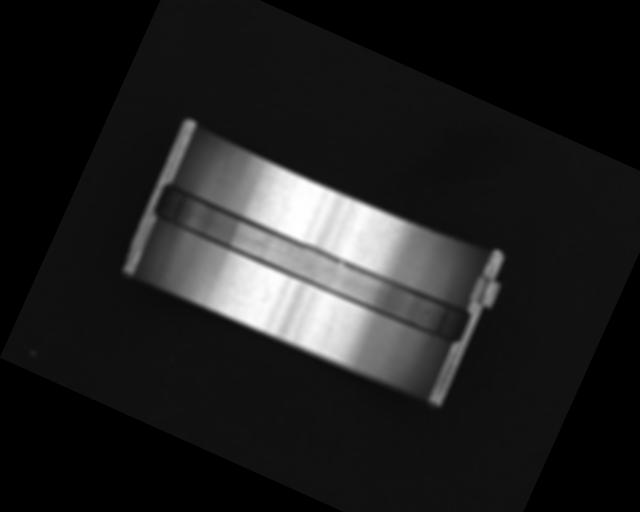gap: (148, 175, 471, 352)
nick: (318, 313, 339, 346)
